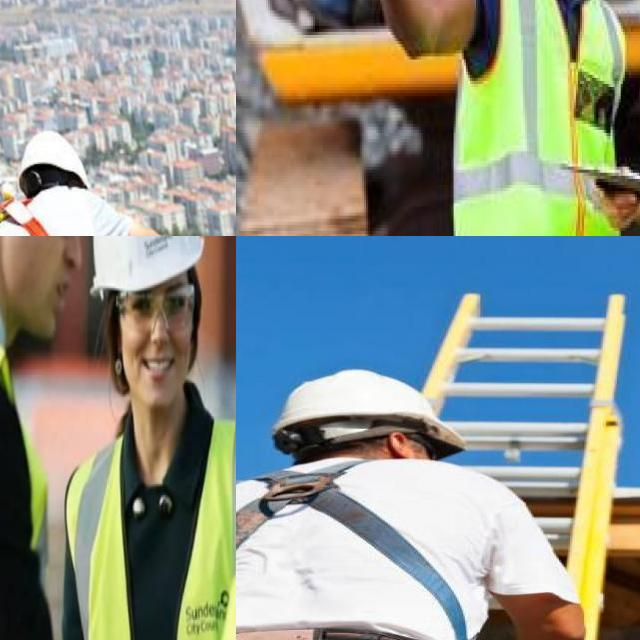Harness: (236, 463, 470, 640)
face_nomask: (113, 282, 205, 408), (0, 236, 87, 346)
glasses: (112, 278, 199, 336)
head_helmet: (83, 236, 205, 294)
person: (67, 236, 236, 640), (457, 0, 620, 236), (0, 236, 76, 640)
vest: (60, 395, 236, 640), (459, 0, 622, 236)
